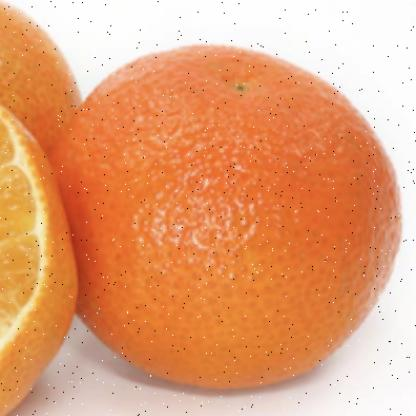fresh: (51, 46, 403, 392)
